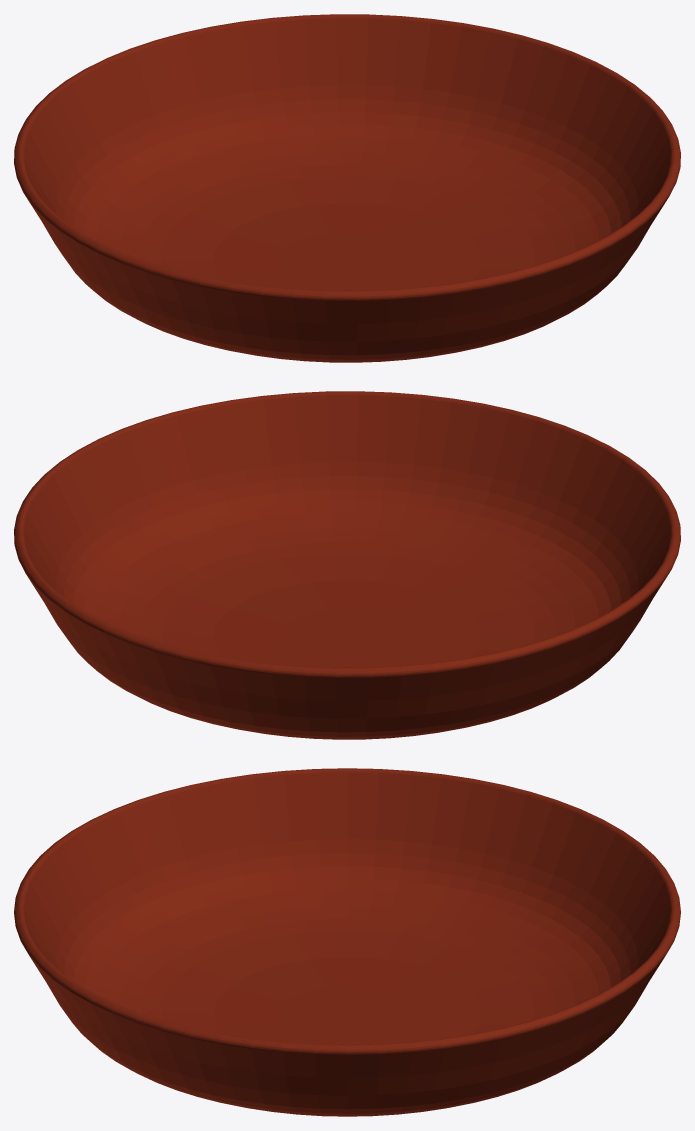
File: Bowl.obj
The picture shows the model from 3 angles, top to bottom: view 1: azimuth 30°, elevation 25°; view 2: azimuth 150°, elevation 25°; view 3: azimuth 270°, elevation 25°; orthographic projection.
Size of the model in its own units: 0.2182 by 0.0467 by 0.2182.
